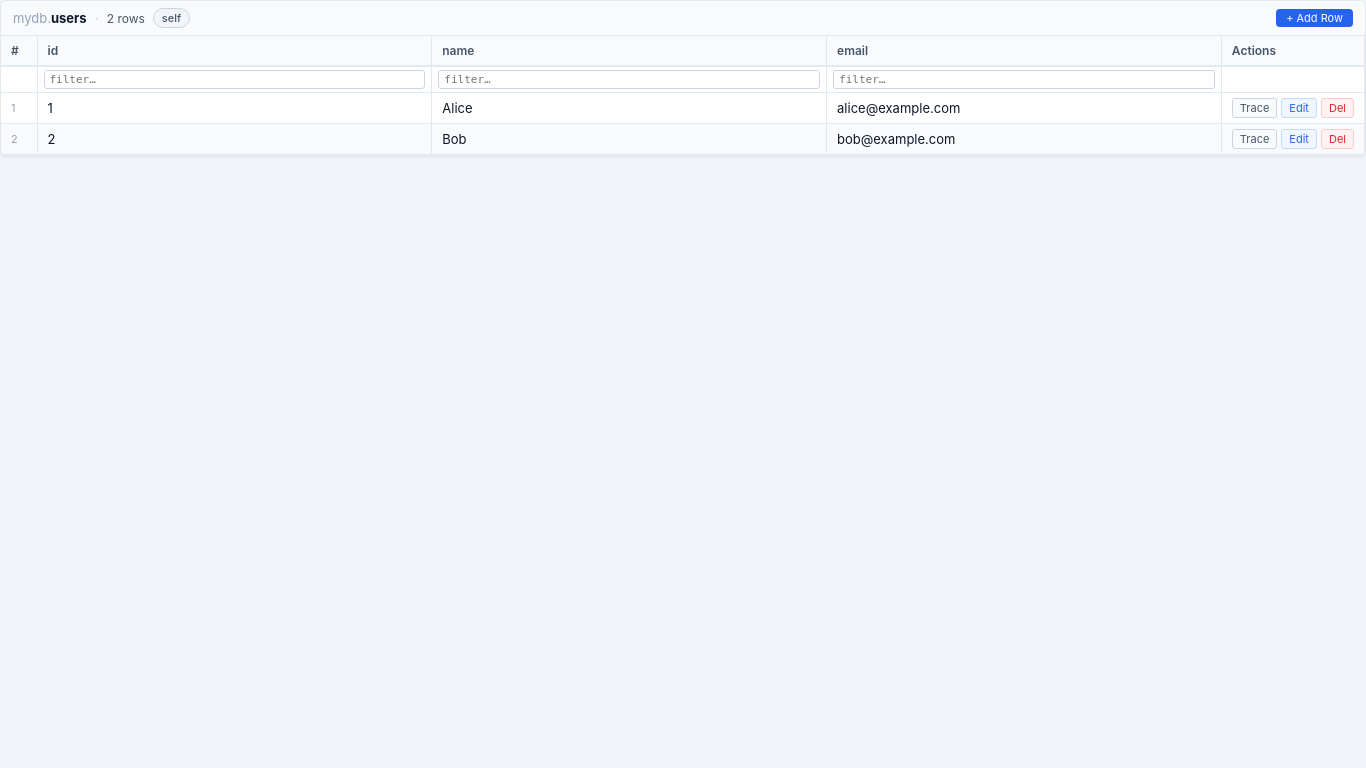
TableGrid › Del button opens delete confirmation modal
Step 1. Click the button "Del" in the row of "alice@example.com" → (1338, 108), box [1321, 98, 1354, 118]
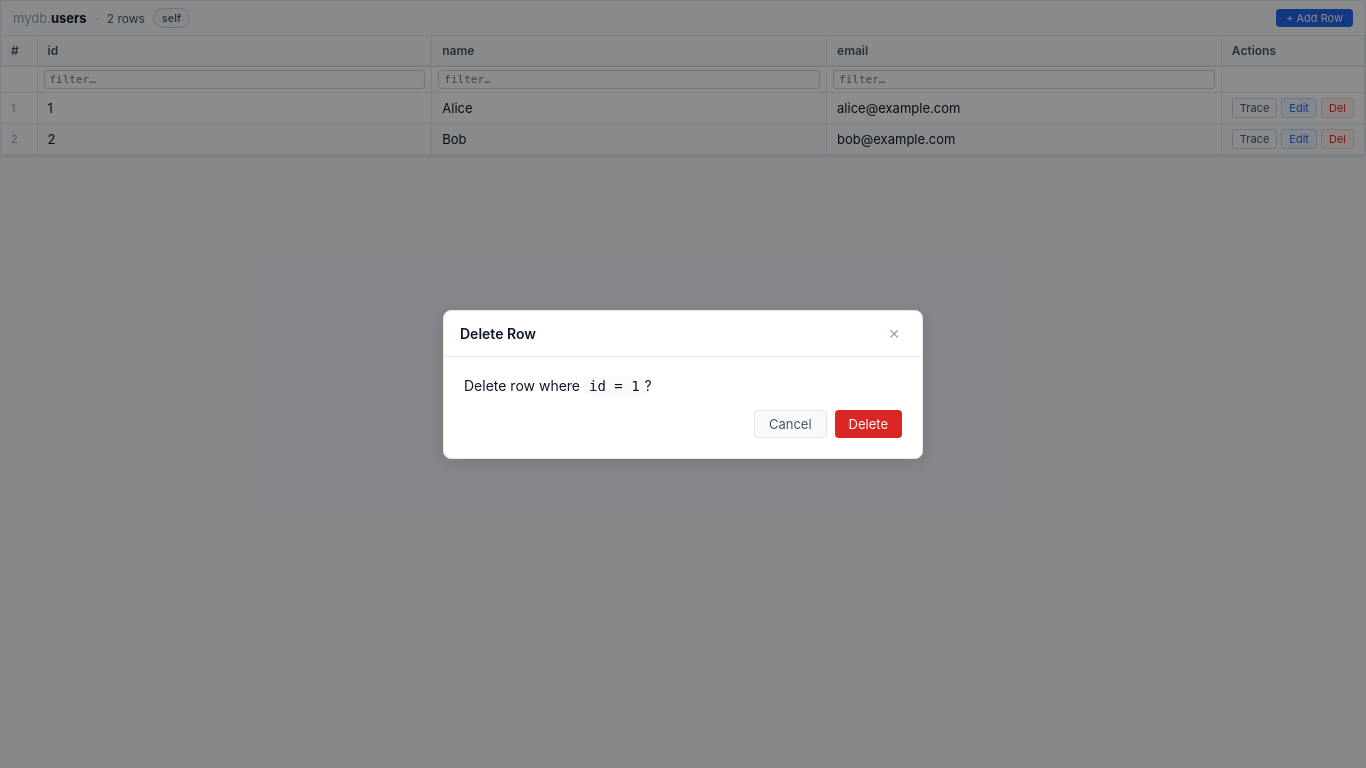
expect the text "Delete Row" is shown: met, box [460, 324, 536, 342]
